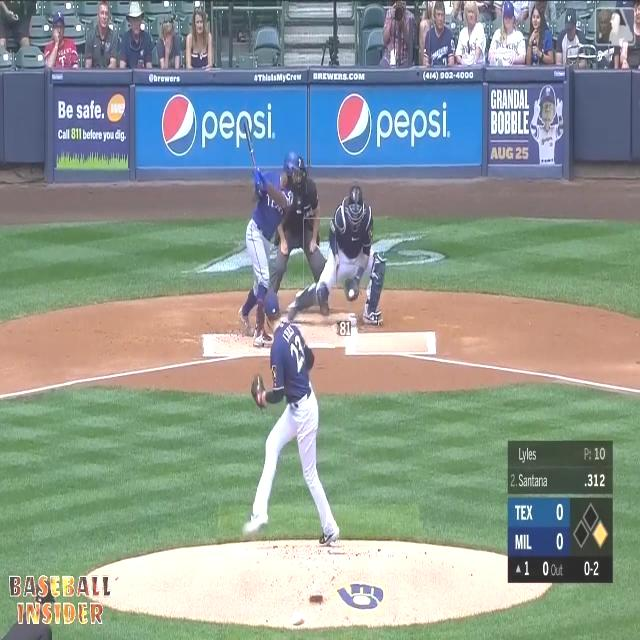baseball bat: (244, 119, 258, 171)
sports ball: (348, 290, 354, 298)
